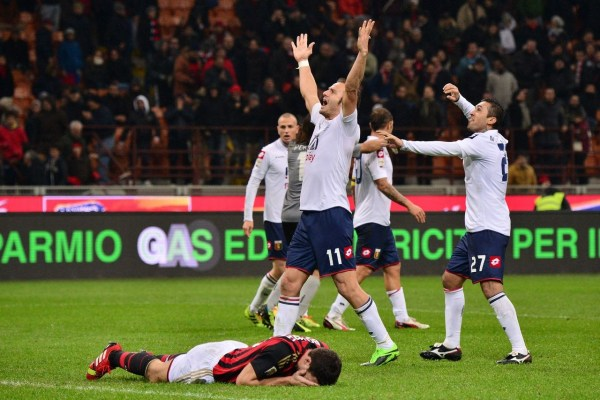10+: (8, 5, 600, 370)
down: (82, 327, 353, 384)
